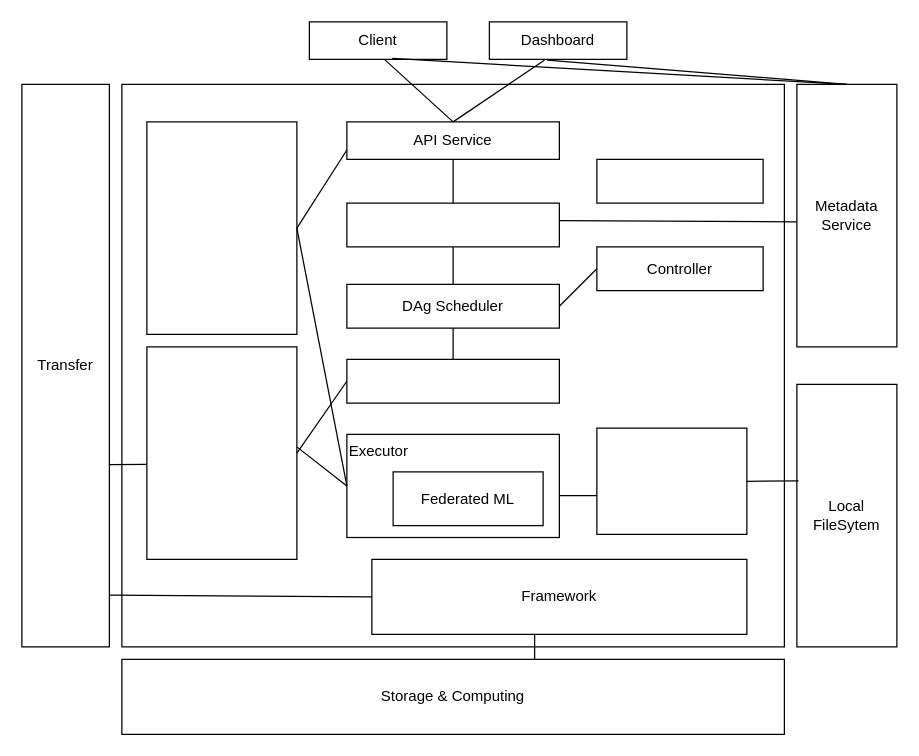
Image size: 919x756. Some labels were removed from this diagram. The centre of each missing label's shape, as x and y in pixels:
DSL Parser: (x=679, y=180)
Federated Task Scheduler: (x=221, y=452)
Job Queue: (x=452, y=224)
Mdoel Registry: (x=671, y=480)
Task Scheduler: (x=452, y=380)
Tracking Manager: (x=221, y=227)
